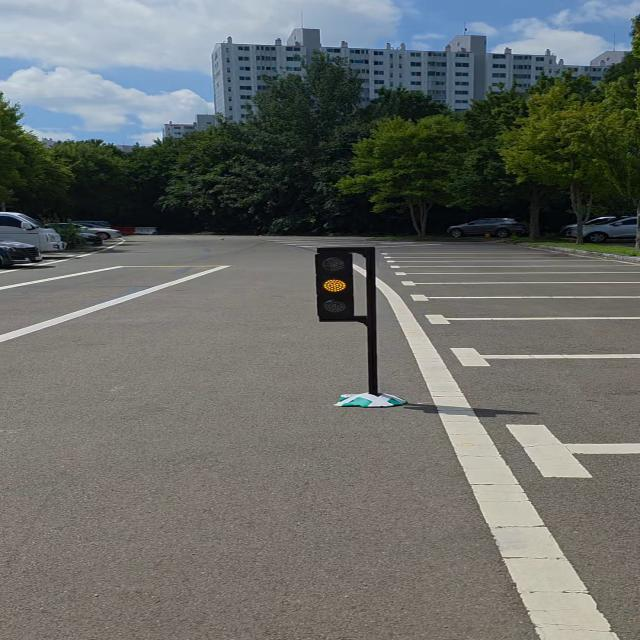yellow: (306, 241, 364, 328)
